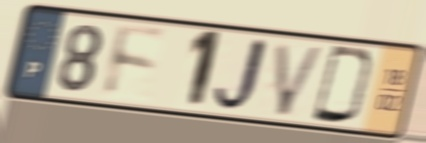1: (185, 28, 223, 115)
8: (57, 21, 105, 94)
D: (309, 42, 378, 128)
F: (101, 21, 169, 101)
J: (209, 33, 272, 116)
V: (273, 39, 328, 119)
